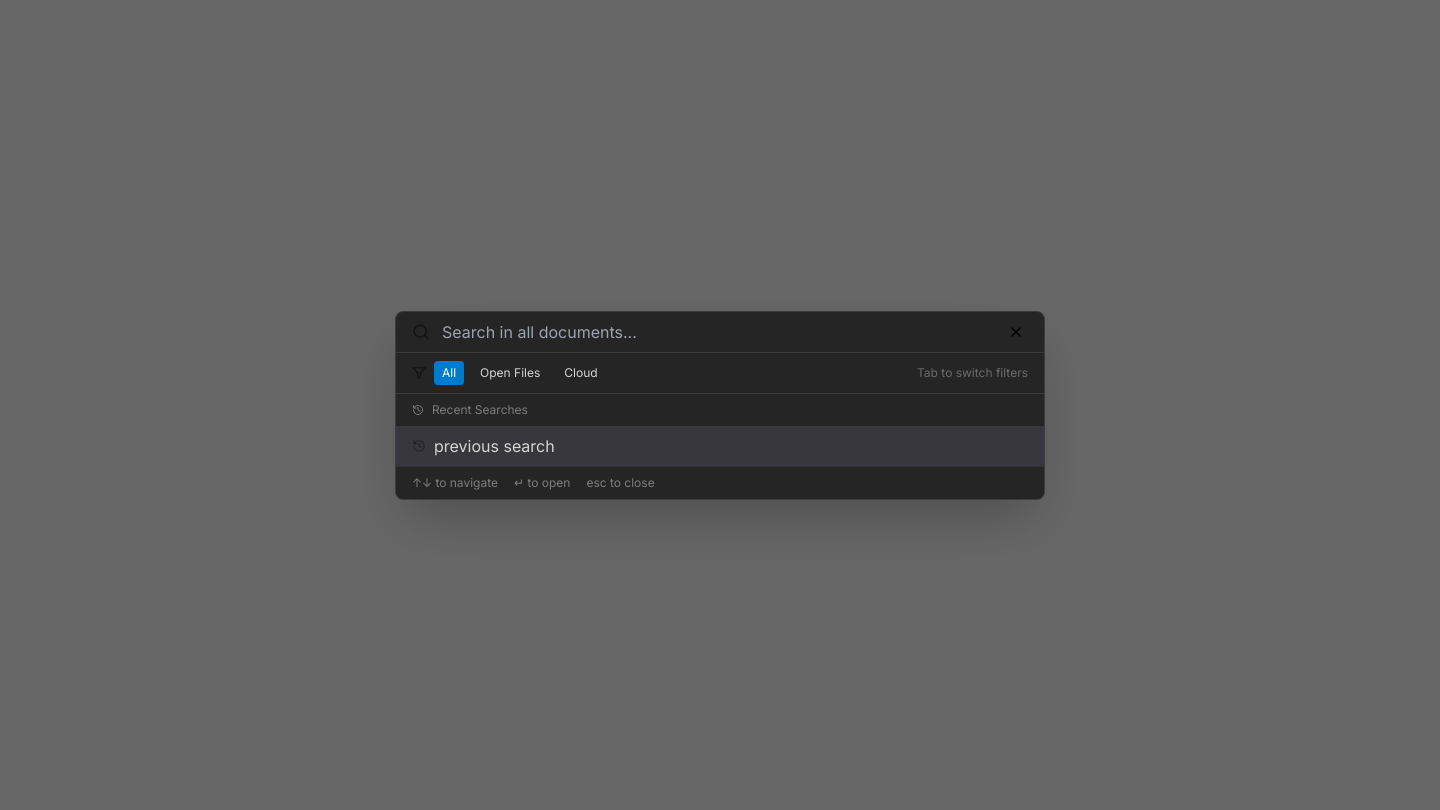
Scenario: SearchModal › Search History › should select history item when clicked
Click the text "previous search". click: [494, 446]
box: [434,434,555,458]
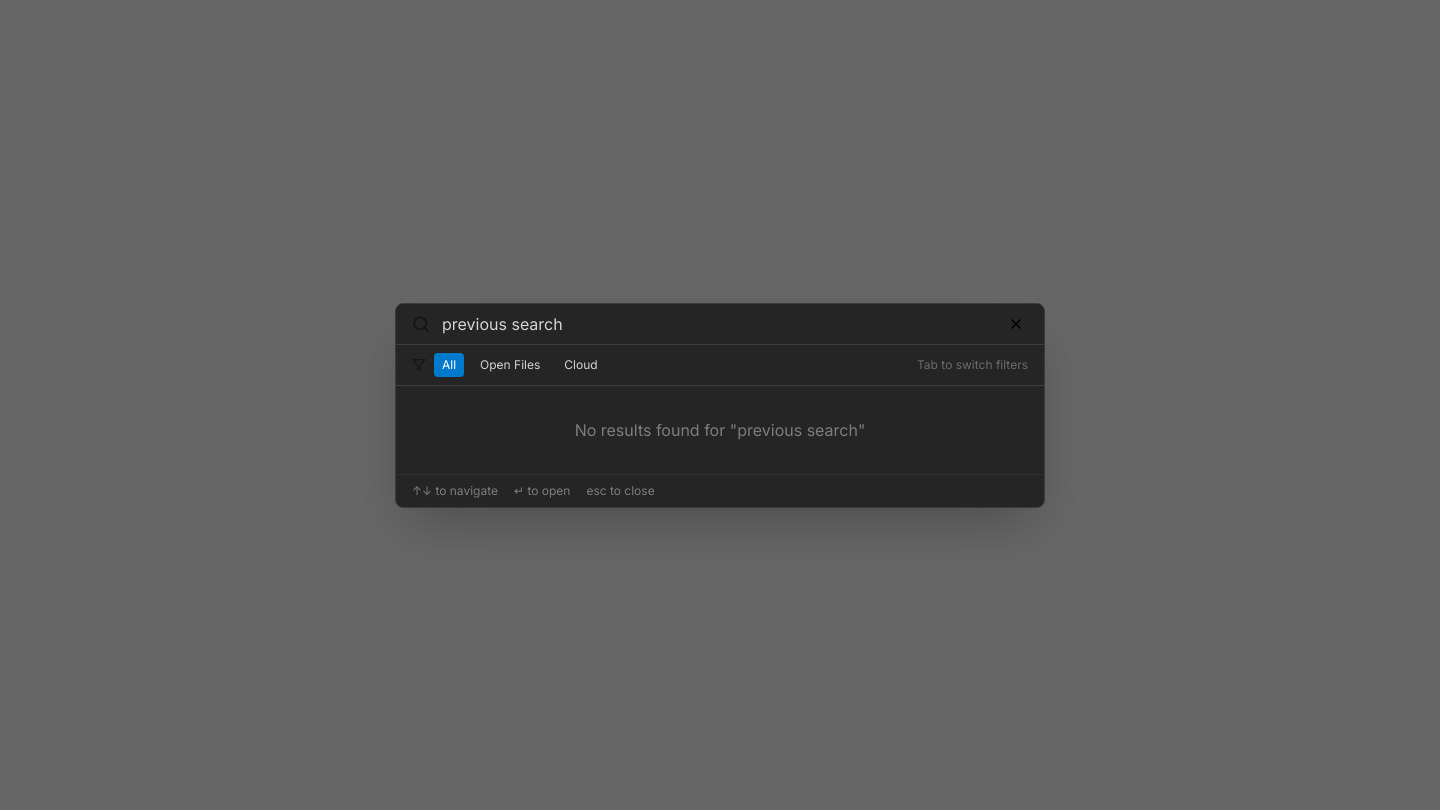
Now the field with placeholder "Search in all documents..." holds "previous search", box [442,312,996,336]
